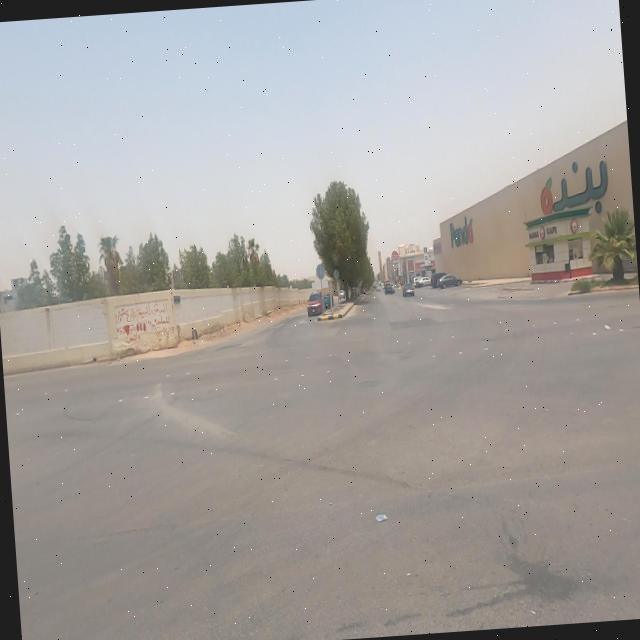Graffiti: (116, 302, 176, 342)
